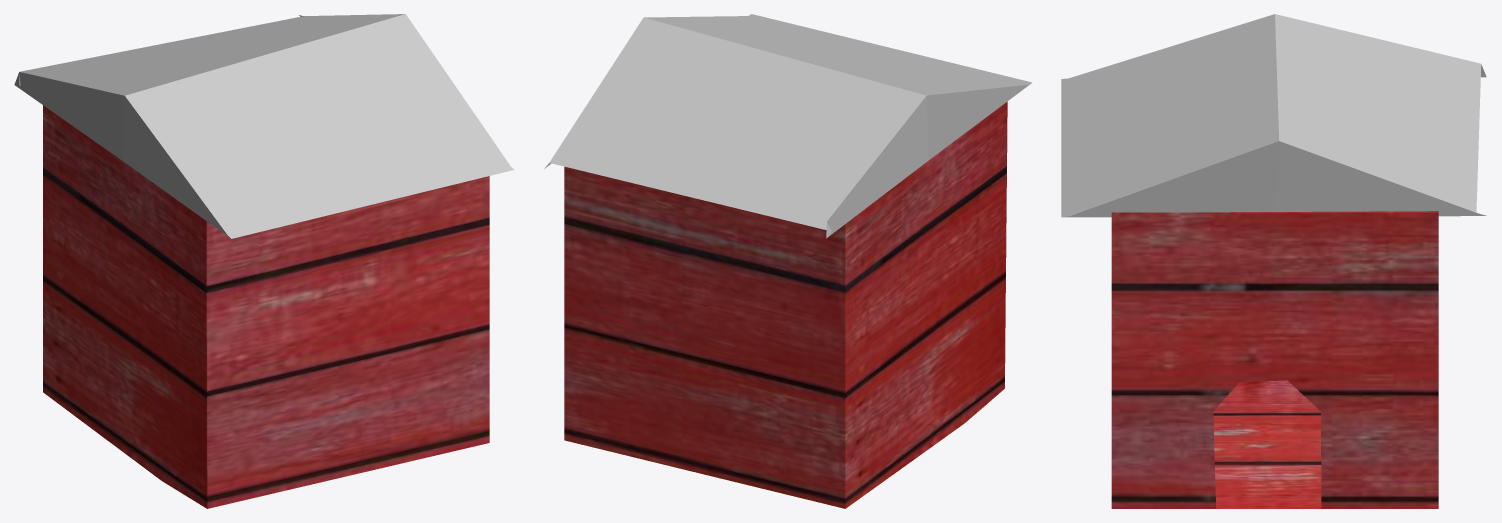
The model's file is Barn.fbx.
3 views of the same model, side by side, from view 1: azimuth 30°, elevation 25°; view 2: azimuth 150°, elevation 25°; view 3: azimuth 270°, elevation 25° (orthographic).
Parts seen in each view (by area): view 1: Cube; view 2: Cube; view 3: Cube.
Boxes of the visible parts, x1=… form: Cube: x1=14, y1=14, x2=514, y2=508; Cube: x1=544, y1=14, x2=1032, y2=508; Cube: x1=1061, y1=14, x2=1486, y2=508.
Bounding box in the file's own units: 204 × 249 × 261.
